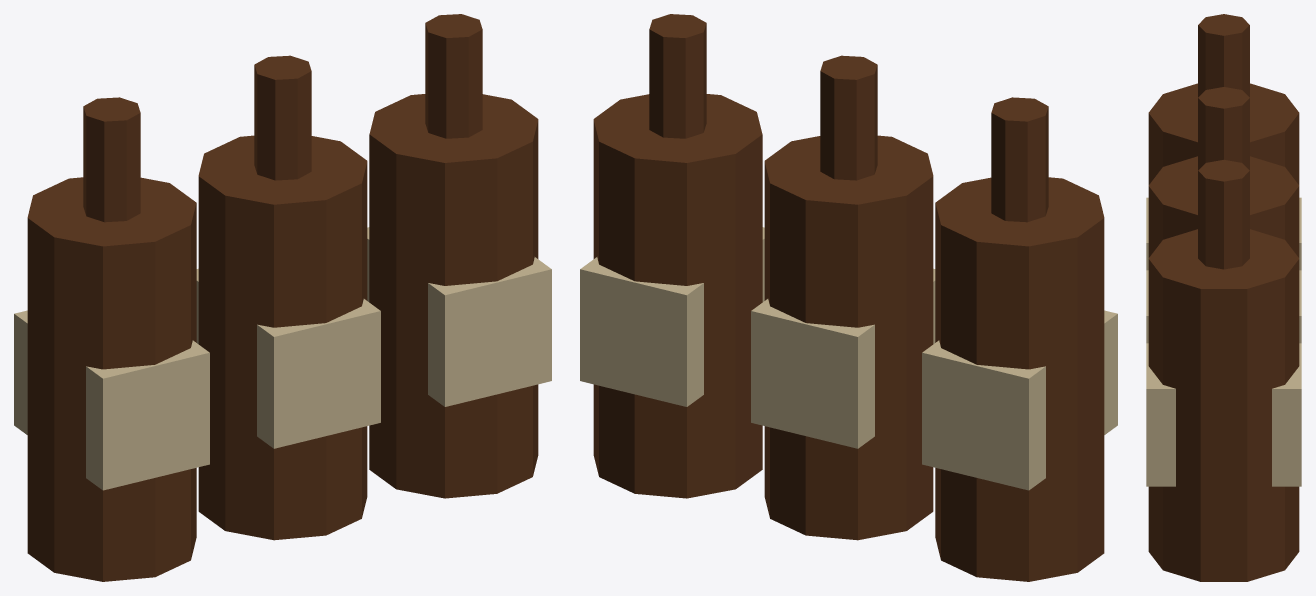
Rendered from TownFind_doctor.glb.
The picture shows the model from 3 angles, left to right: view 1: azimuth 30°, elevation 25°; view 2: azimuth 150°, elevation 25°; view 3: azimuth 270°, elevation 25°; orthographic projection. The views are drawn at different scales.
Parts seen in each view (by area): view 1: TownFind_doctor.001; view 2: TownFind_doctor.001; view 3: TownFind_doctor.001.
Part boxes in pixels (box(x1,y1,x2,y2)): TownFind_doctor.001: box(14, 14, 551, 581); TownFind_doctor.001: box(580, 14, 1117, 581); TownFind_doctor.001: box(1146, 14, 1301, 581).
Size of the model in its own units: 0.2266 by 0.195 by 0.072.
